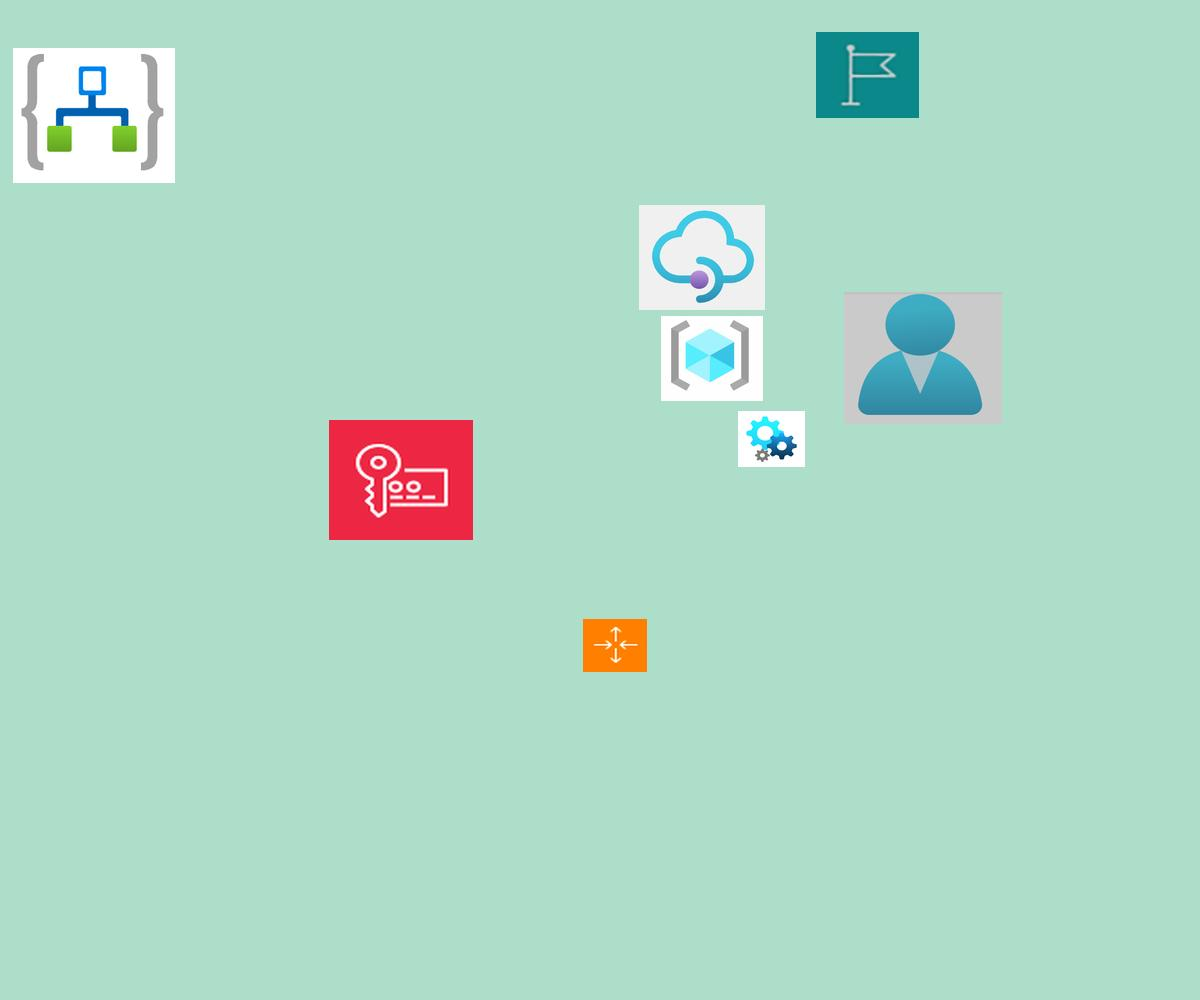AWS-Key-Management-Service: (329, 420, 473, 540)
AWS-Region: (816, 32, 919, 118)
AWS-Scaling-group: (583, 619, 647, 672)
Azure_api: (738, 411, 805, 467)
Azure_api_gateway: (639, 205, 765, 310)
Azure_integration-204-Logic-Apps: (13, 48, 175, 183)
Azure_resource_group: (661, 316, 763, 401)
Azure_users: (844, 292, 1002, 424)
